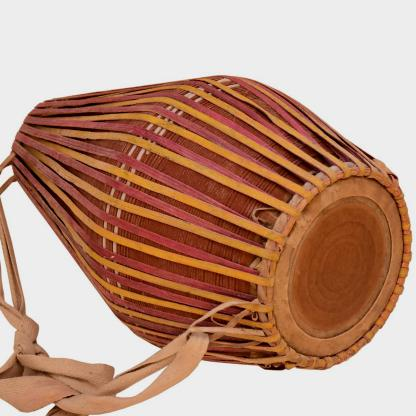Mridangam: (6, 78, 415, 378)
